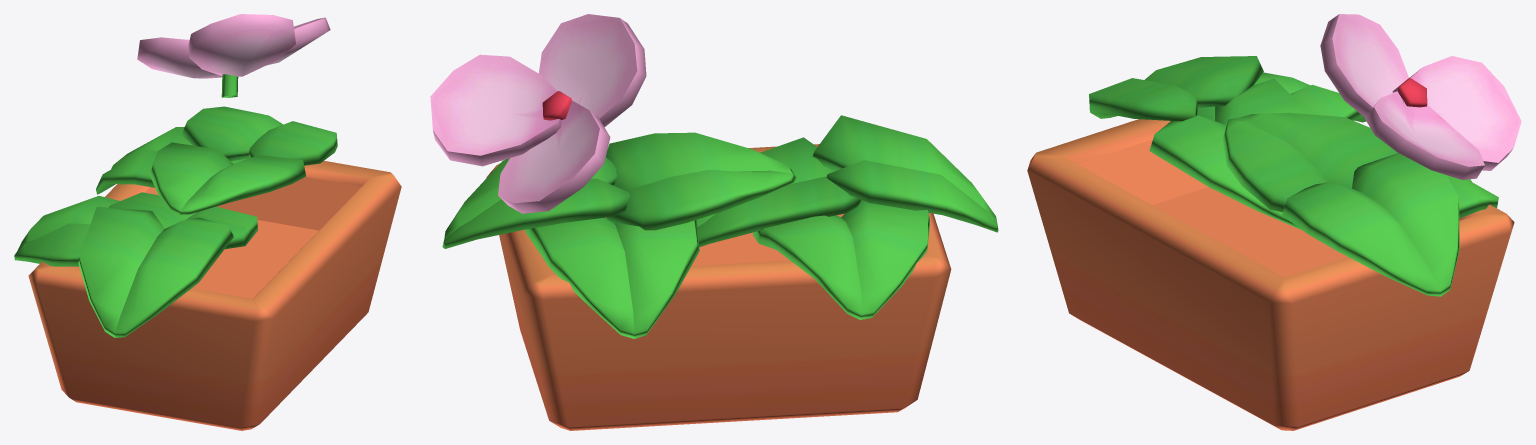
Rendered from Flower_Pot.fbx.
The picture shows the model from 3 angles, left to right: view 1: azimuth 30°, elevation 25°; view 2: azimuth 150°, elevation 25°; view 3: azimuth 270°, elevation 25°; orthographic projection. The views are drawn at different scales.
Parts seen in each view (by area): view 1: Flower_Pot, Flower_01; view 2: Flower_Pot, Flower_01; view 3: Flower_Pot, Flower_01.
Part boxes in pixels (x1=…): Flower_Pot: x1=14, y1=106, x2=401, y2=430; Flower_01: x1=137, y1=14, x2=330, y2=97; Flower_Pot: x1=442, y1=115, x2=998, y2=430; Flower_01: x1=430, y1=14, x2=646, y2=213; Flower_Pot: x1=1027, y1=56, x2=1514, y2=430; Flower_01: x1=1320, y1=14, x2=1521, y2=179.
Size of the model in its own units: 2.29 by 1.8 by 2.22.
1 material, 1 textured.
